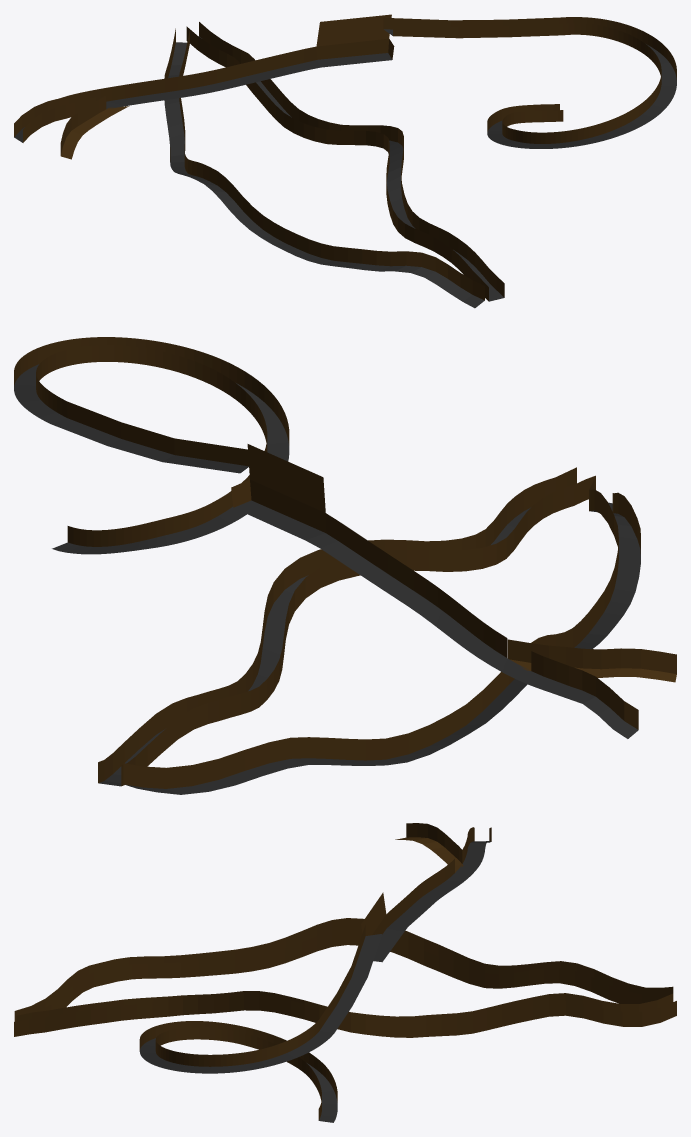
Rendered from ColiderplanerV3.fbx.
3 renders of one model, top to bottom at view 1: azimuth 30°, elevation 25°; view 2: azimuth 150°, elevation 25°; view 3: azimuth 270°, elevation 25°, orthographic. The views are drawn at different scales.
Parts seen in each view (by area): view 1: CollissionPath2; view 2: CollissionPath2; view 3: CollissionPath2.
Boxes of the visible parts, x1,y1,x2,y2 form: CollissionPath2: [14, 14, 676, 308]; CollissionPath2: [14, 337, 676, 794]; CollissionPath2: [14, 823, 676, 1122].
Bounding box in the file's own units: 7608 × 1939 × 7894.
